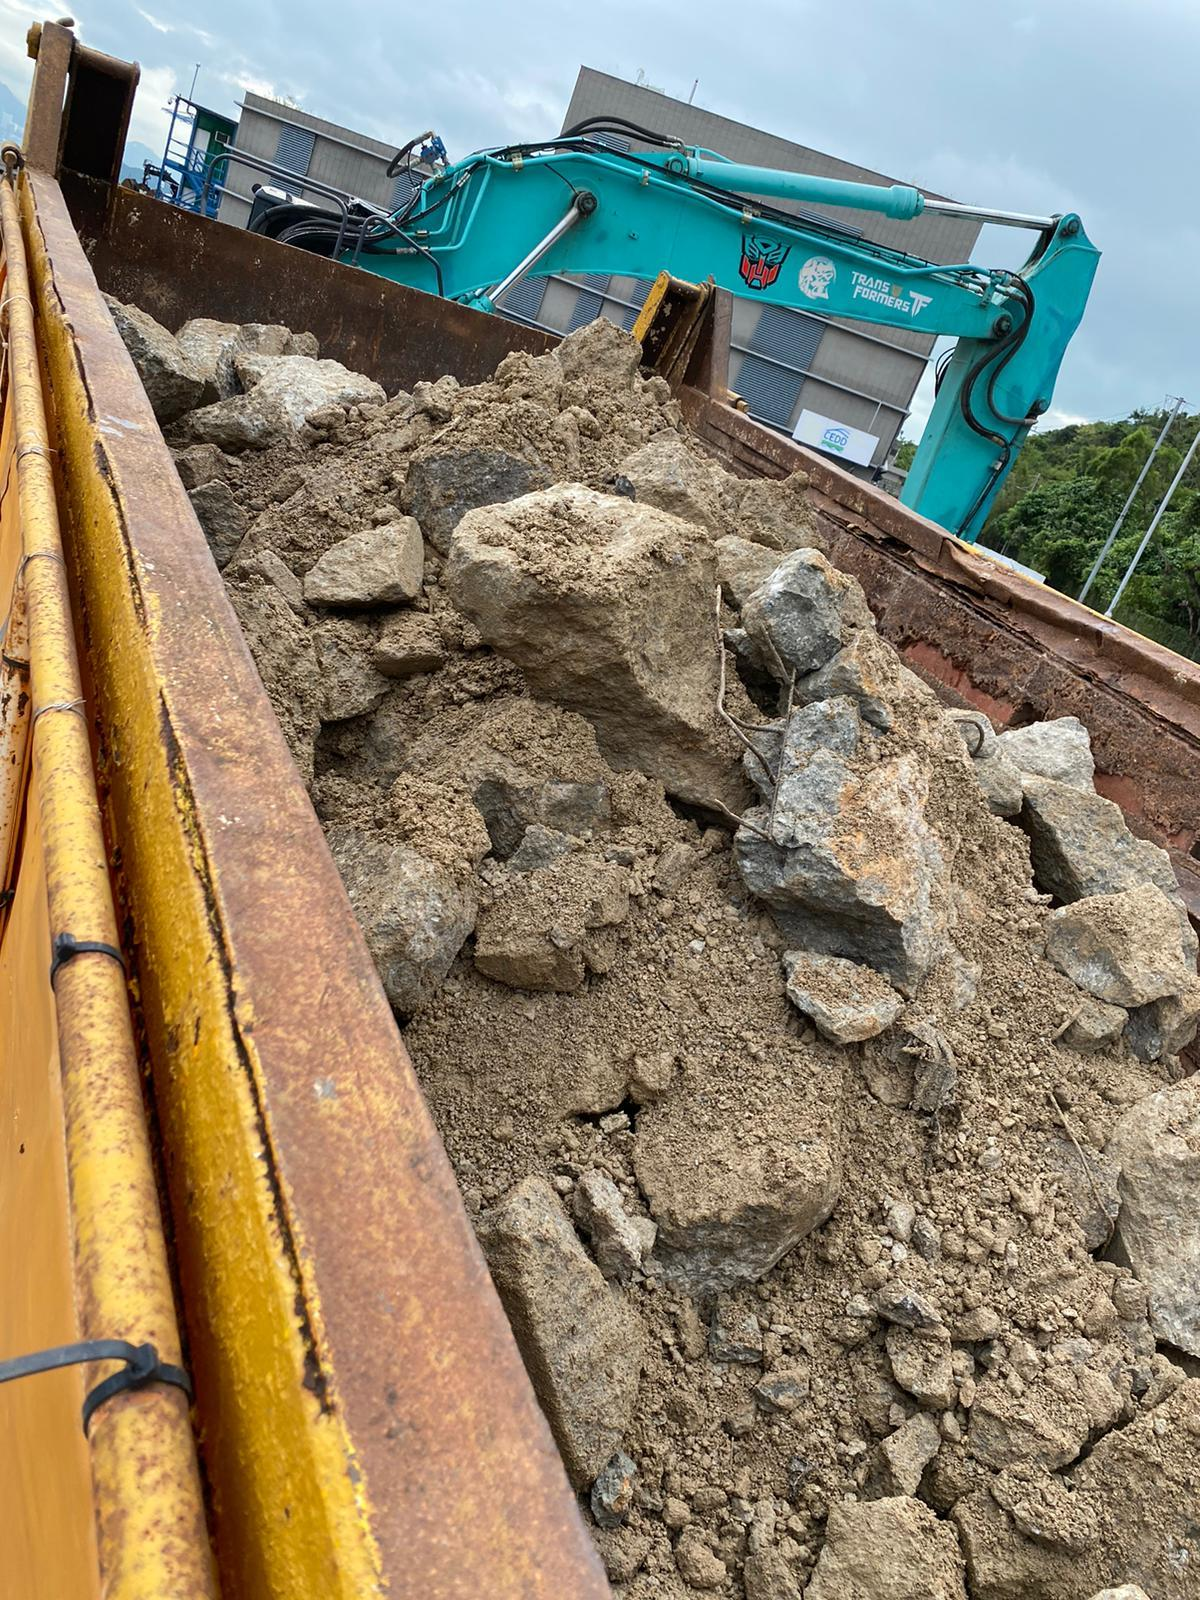dry: (120, 315, 1195, 1585)
